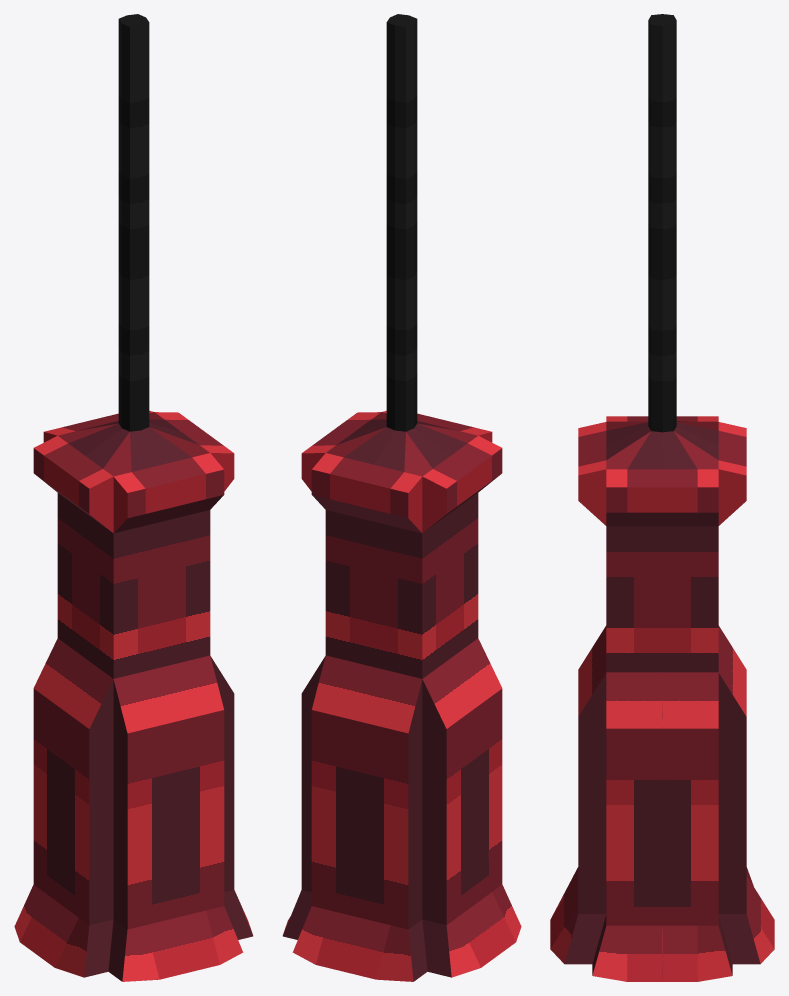
Rendered from screwdriver.fbx.
3 renders of one model, left to right at view 1: azimuth 30°, elevation 25°; view 2: azimuth 150°, elevation 25°; view 3: azimuth 270°, elevation 25°, orthographic.
Parts seen in each view (by area): view 1: 1; view 2: 1; view 3: 1.
Part boxes in pixels (x1,y1,x2,y2): 1: (14,14,253,981); 1: (282,14,521,981); 1: (550,14,774,981).
Size of the model in its own units: 50 by 225 by 50.
1 material, 1 textured.
